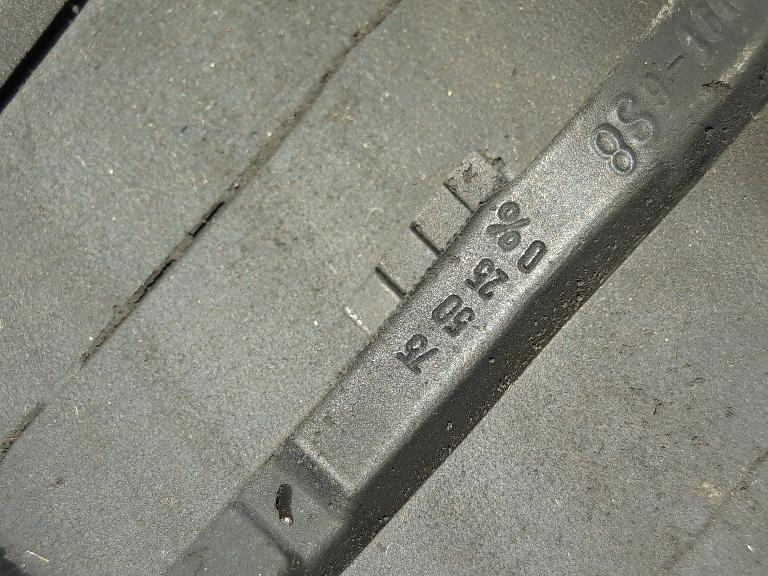temoin:75: (334, 139, 526, 351)
